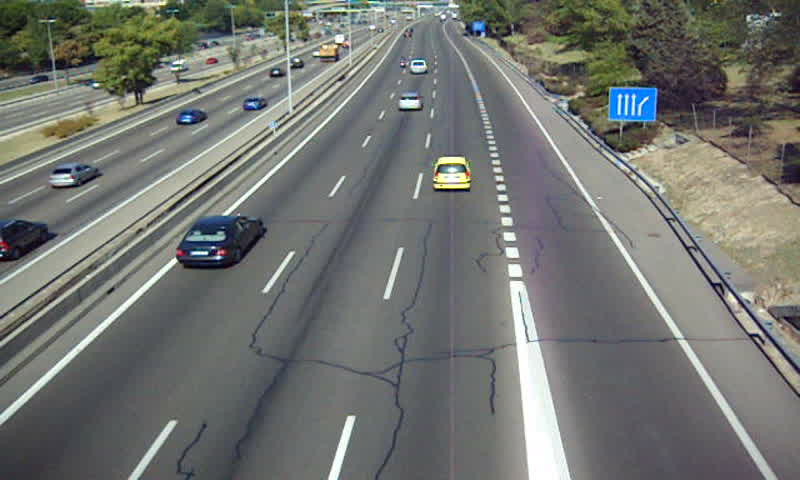car: (172, 218, 262, 268), (432, 156, 472, 190), (399, 91, 422, 111), (409, 59, 428, 75)
